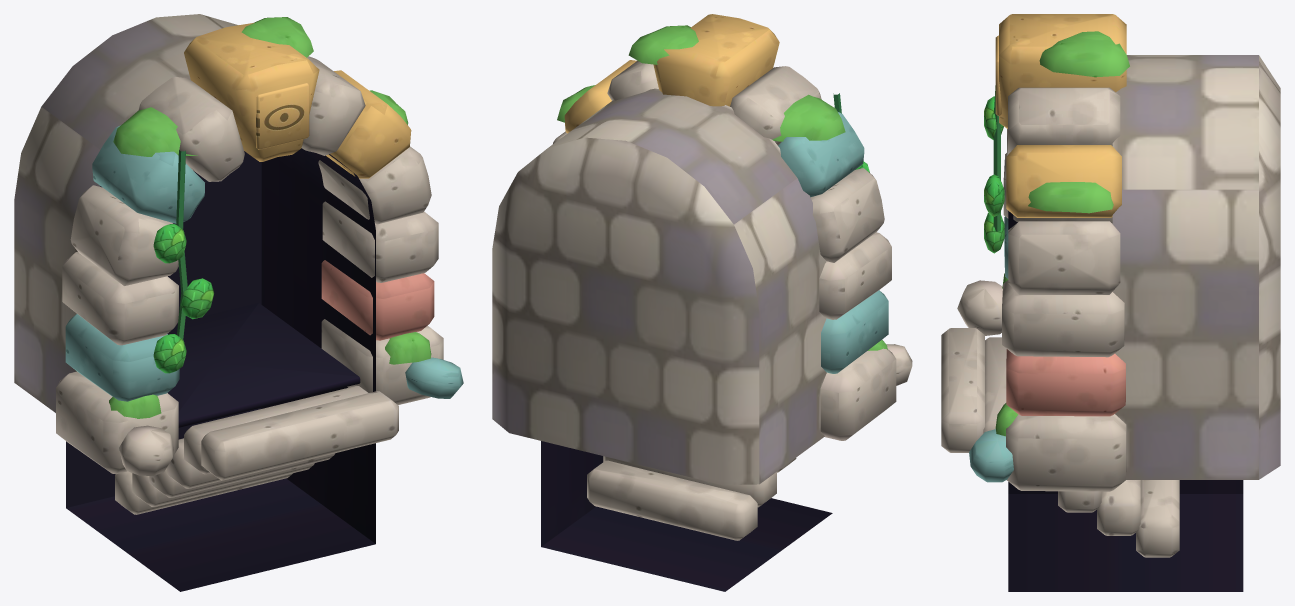
The model's file is ruin_arch.glb.
The picture shows the model from 3 angles, left to right: view 1: azimuth 30°, elevation 25°; view 2: azimuth 150°, elevation 25°; view 3: azimuth 270°, elevation 25°; orthographic projection. The views are drawn at different scales.
Parts seen in each view (by area): view 1: ruin_arch; view 2: ruin_arch; view 3: ruin_arch.
Part boxes in pixels (x1,y1,x2,y2): ruin_arch: (14, 14, 463, 591); ruin_arch: (492, 14, 912, 591); ruin_arch: (941, 14, 1280, 591).
Size of the model in its own units: 5.26 by 7.34 by 4.36.
3 materials, 3 textured.
